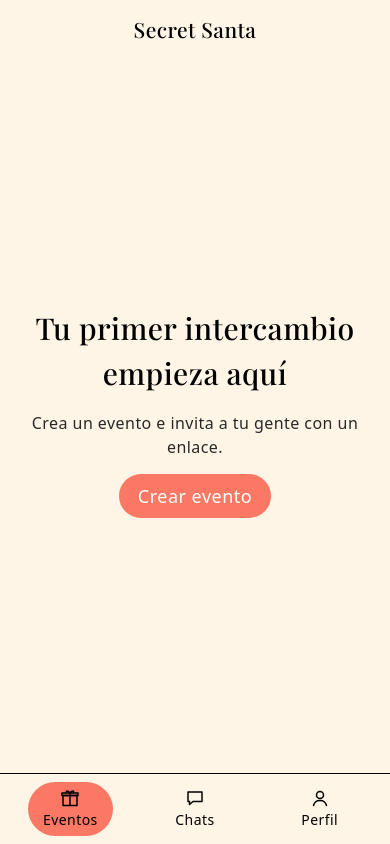
Test case: AppLayout (signed in) › navigates with the tab bar
Expected: the element that starts with "Tu primer intercambio empieza aquí" is shown, x1=32 y1=308 x2=358 y2=518
Click the link "Chats" at (195, 808), box x1=175 y1=788 x2=215 y2=829
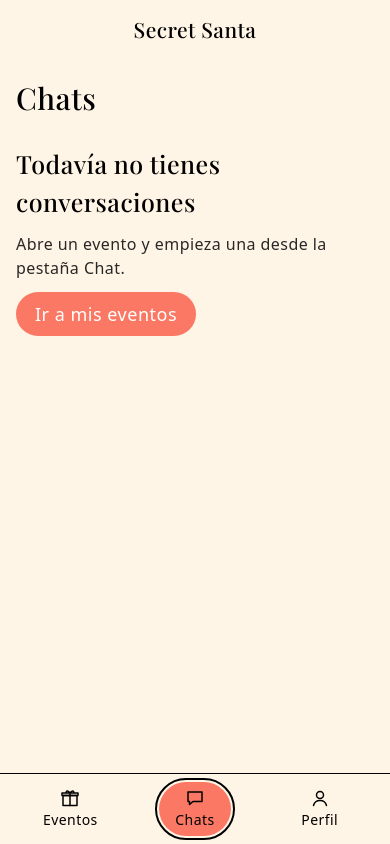
Expected: the heading reads "Chats", x1=16 y1=78 x2=96 y2=118
